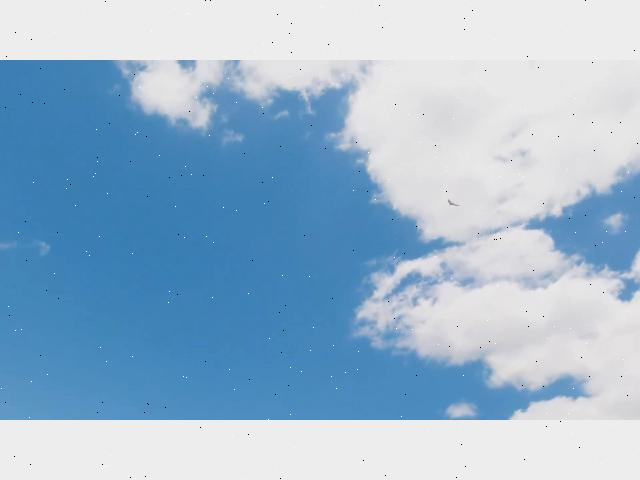Anti-Drone: (444, 191, 466, 211)
